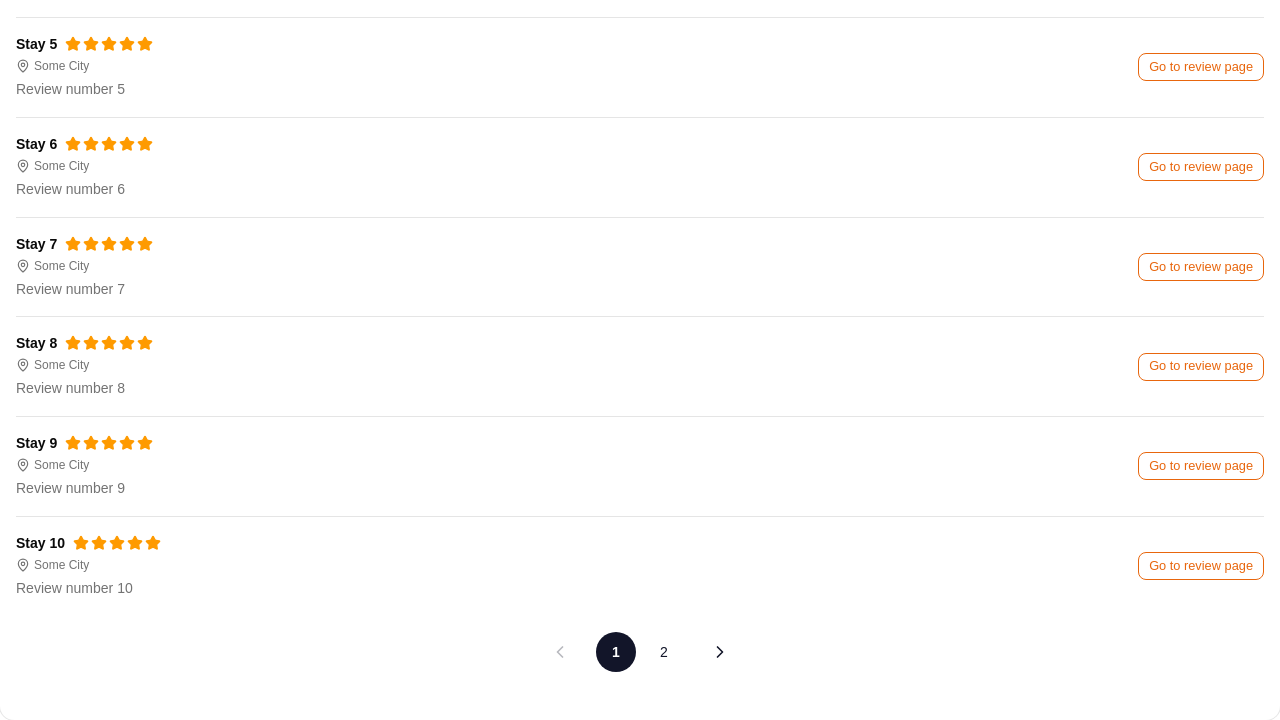
Test case: ReviewHistoryTab › paginates 10 reviews at a time once there are more than 10
(page scrolled)
Expected: the text "Stay 11" is not shown
Expected: the navigation bar named "Pagination Navigation" is shown, [540,632,740,672]
What coordinates should you click on to do the following:
click the button named "Go to page 2"
I would click on:
 (664, 652)
Its box is [644,632,684,672].
(page scrolled)
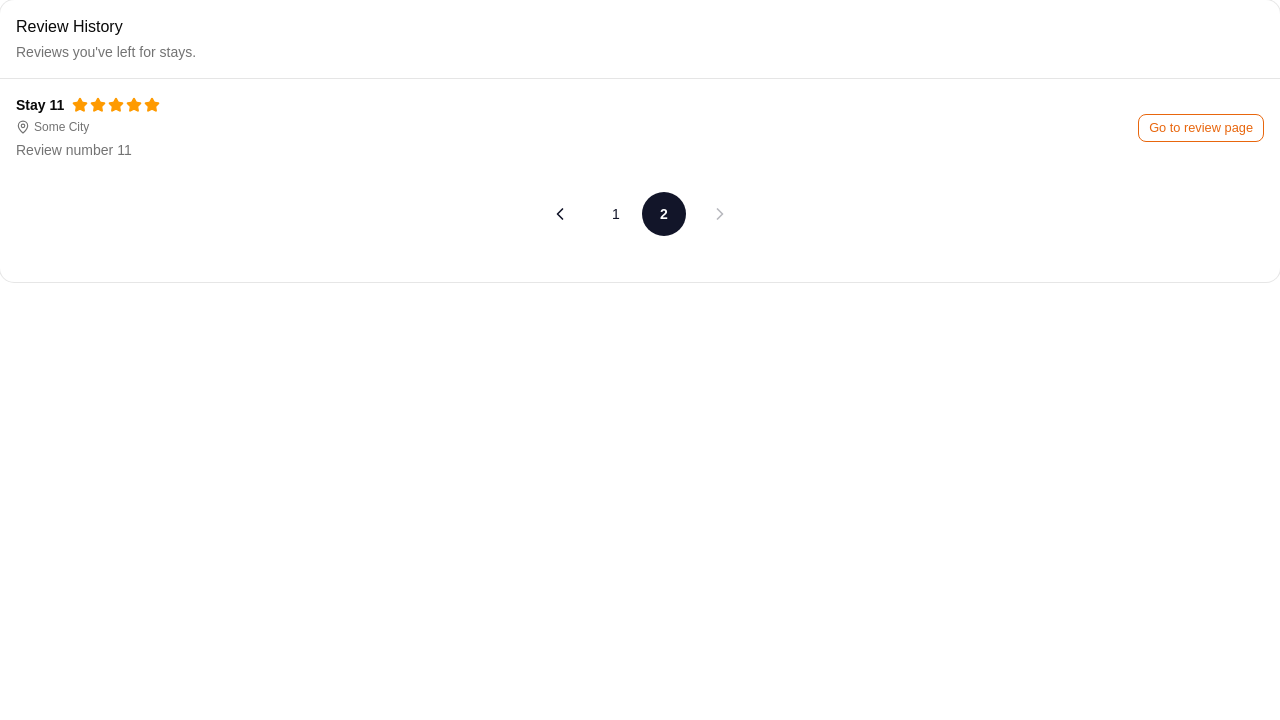
Expected: the text "Stay 11" is shown, [16,95,64,115]
